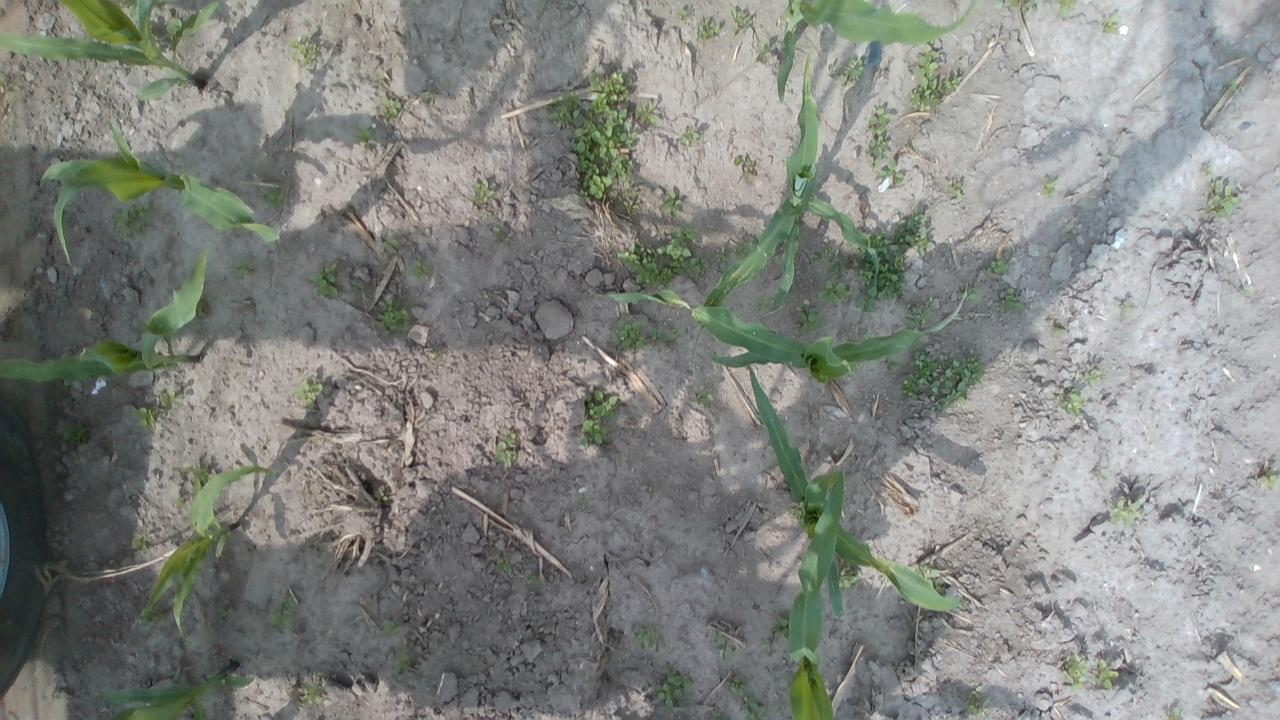Maize: (690, 45, 880, 359), (745, 362, 963, 614), (596, 284, 968, 386), (42, 119, 282, 265), (0, 246, 208, 380), (142, 465, 274, 647), (0, 0, 220, 103), (776, 0, 976, 101), (784, 465, 848, 720), (90, 661, 256, 720)
Weeds: (540, 68, 658, 205), (850, 206, 931, 311), (897, 336, 987, 413), (616, 224, 709, 292), (909, 40, 963, 110), (808, 244, 852, 306), (611, 318, 685, 351), (580, 390, 618, 448), (112, 201, 160, 239), (866, 106, 895, 168), (652, 667, 694, 708), (1196, 178, 1239, 218), (374, 296, 416, 334), (761, 607, 790, 658), (912, 560, 948, 597), (308, 262, 343, 300), (293, 374, 324, 412), (1107, 496, 1143, 528), (792, 304, 828, 336), (904, 294, 934, 331), (288, 34, 320, 68), (148, 18, 182, 50), (1062, 654, 1089, 693), (268, 596, 298, 630), (632, 624, 668, 652), (1054, 387, 1086, 416), (963, 684, 992, 716), (837, 58, 866, 88), (492, 432, 516, 468), (184, 458, 212, 488), (1094, 658, 1120, 690), (878, 158, 906, 187), (141, 601, 171, 628), (130, 404, 160, 431), (658, 188, 684, 219), (229, 256, 260, 282), (711, 630, 737, 660), (724, 675, 752, 702), (998, 287, 1026, 313), (302, 677, 328, 705), (469, 178, 494, 206), (190, 291, 214, 320), (729, 8, 752, 38), (694, 16, 720, 42), (741, 695, 768, 720), (732, 154, 758, 179), (1256, 464, 1280, 490), (405, 258, 431, 282), (108, 0, 139, 20), (381, 94, 404, 120), (353, 126, 377, 150), (1081, 365, 1105, 388), (262, 186, 286, 209), (788, 502, 807, 530), (836, 569, 858, 593), (378, 231, 399, 255), (941, 179, 965, 200), (674, 127, 700, 146), (1114, 298, 1136, 320), (730, 240, 754, 260), (1101, 9, 1120, 34), (525, 570, 548, 590), (393, 650, 412, 674), (842, 330, 874, 344), (956, 285, 982, 302), (985, 256, 1007, 276), (694, 387, 714, 409), (752, 42, 771, 64), (158, 389, 182, 406), (491, 226, 512, 245), (1054, 0, 1077, 17), (382, 619, 405, 636), (1041, 176, 1059, 197), (714, 245, 729, 269), (348, 278, 367, 296), (884, 356, 904, 373), (620, 197, 642, 212), (492, 556, 512, 572), (135, 533, 150, 553), (173, 496, 192, 511), (754, 294, 770, 311), (992, 0, 1022, 9), (1022, 0, 1038, 14), (218, 604, 236, 616), (1228, 78, 1242, 93), (707, 712, 733, 720), (674, 7, 688, 21), (1098, 466, 1111, 480), (1164, 709, 1180, 720), (578, 494, 589, 509), (1200, 163, 1213, 175), (374, 491, 388, 502), (1052, 326, 1068, 335), (207, 669, 219, 679), (422, 91, 434, 99), (208, 654, 219, 662), (648, 487, 658, 495)
